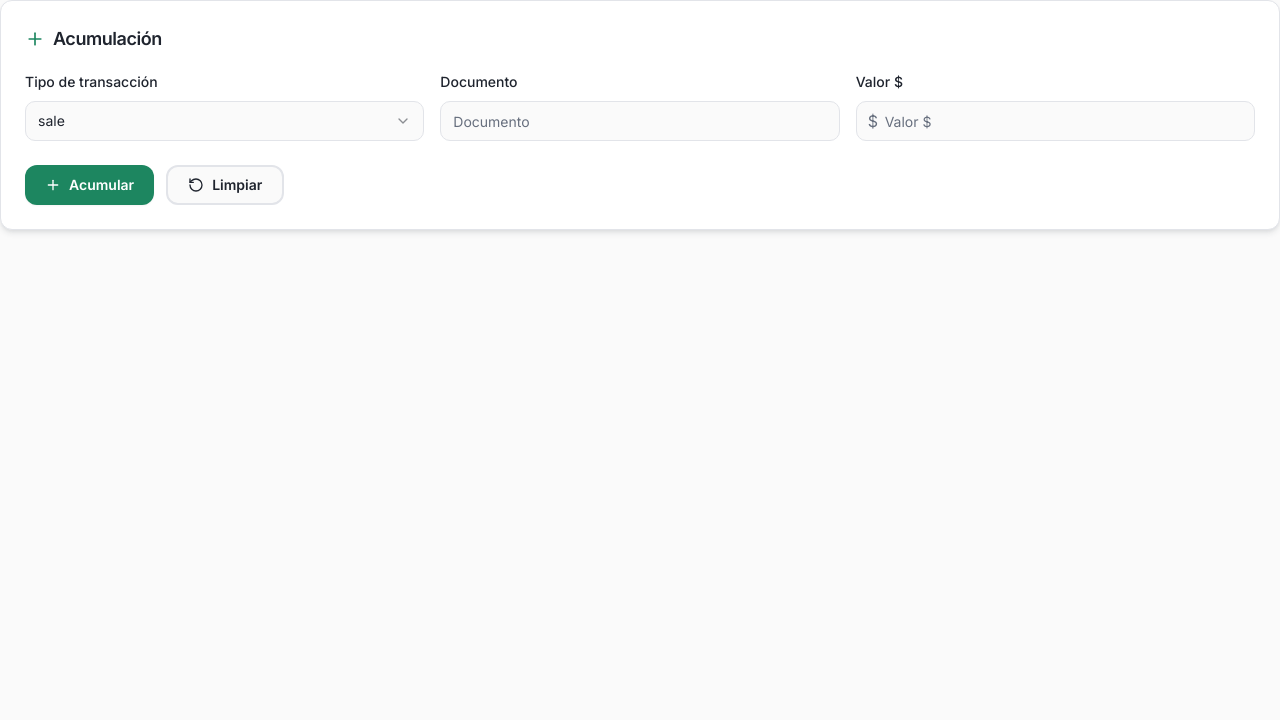
Scenario: AccumulationForm › shows error for 400 BAD REQUEST
Expected: the button "Acumular" is enabled, top-left (25, 165), bottom-right (154, 205)
Type "12345678" into the field with test id "acc-document" at (640, 121), box top-left (440, 101), bottom-right (840, 141)
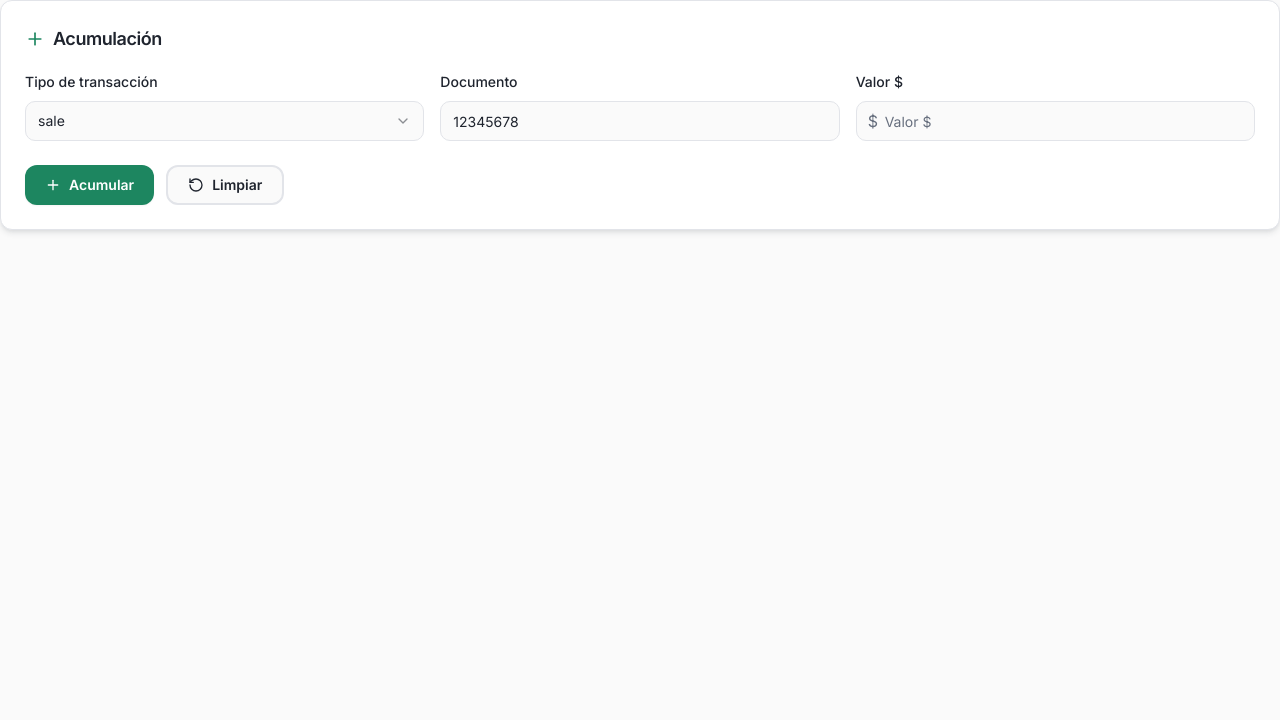
Type "100" into the number field with test id "acc-value" at (1055, 121), box top-left (856, 101), bottom-right (1255, 141)
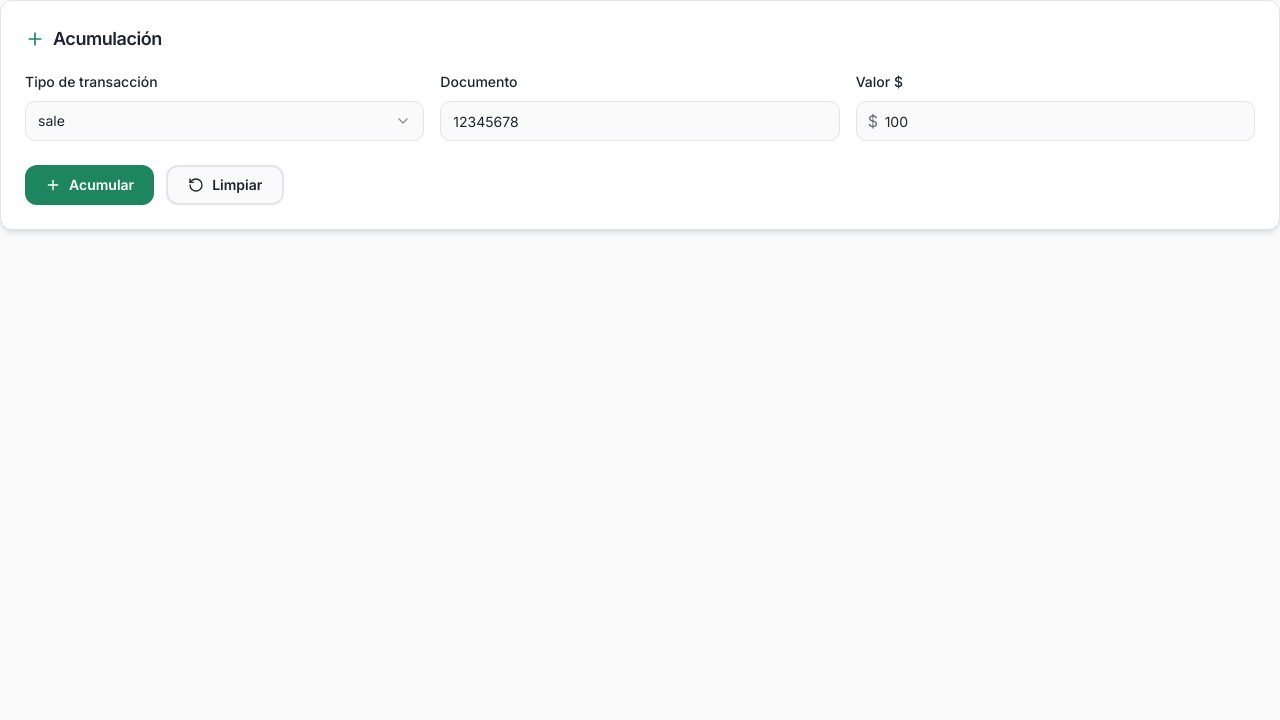
Click the button "Acumular" at (90, 185), box top-left (25, 165), bottom-right (154, 205)
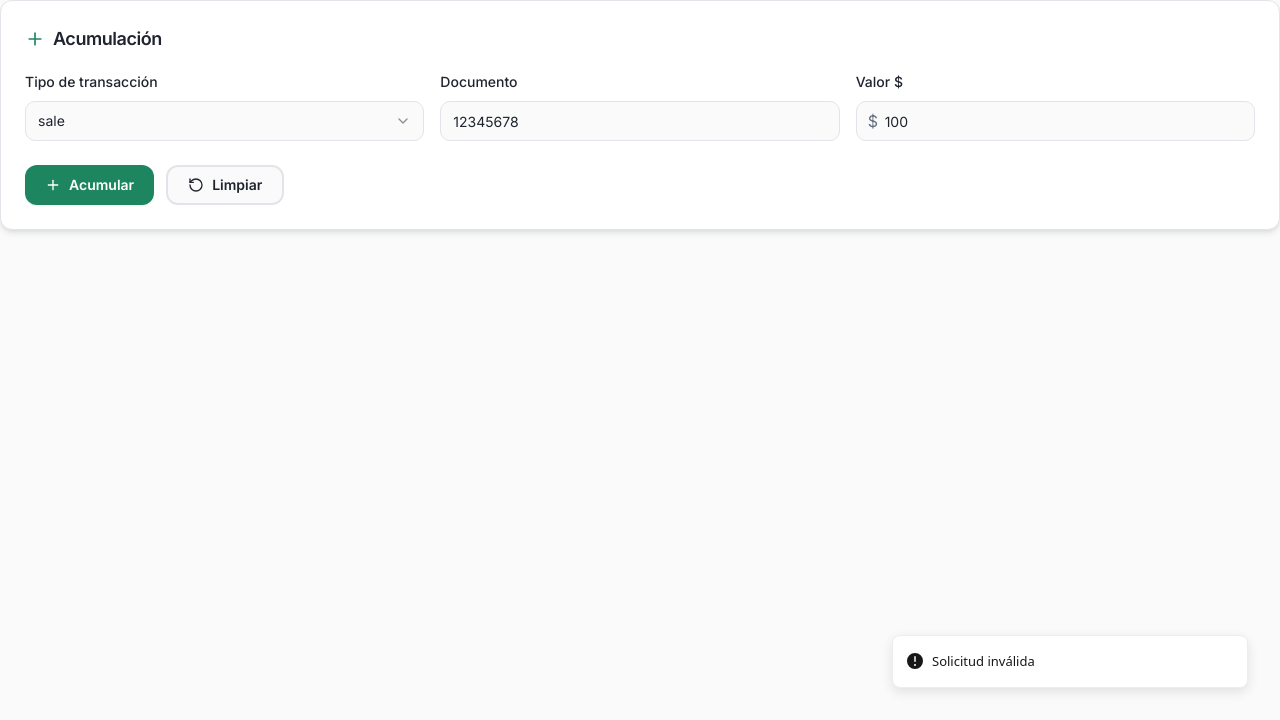
Result: the text "Solicitud inválida" is shown at top-left (932, 652), bottom-right (1035, 671)
